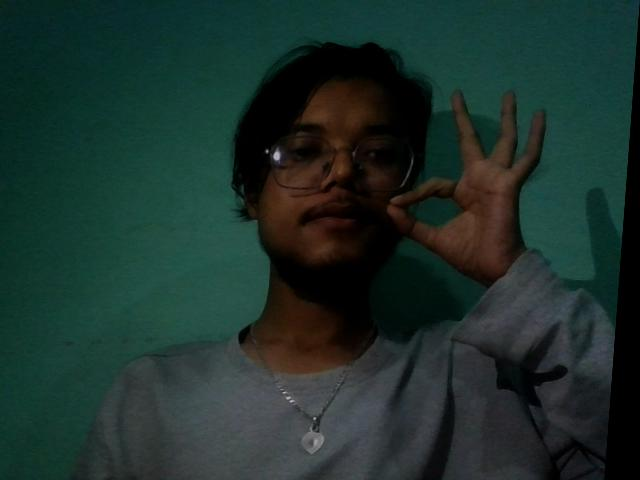Cat: (378, 84, 561, 311)
